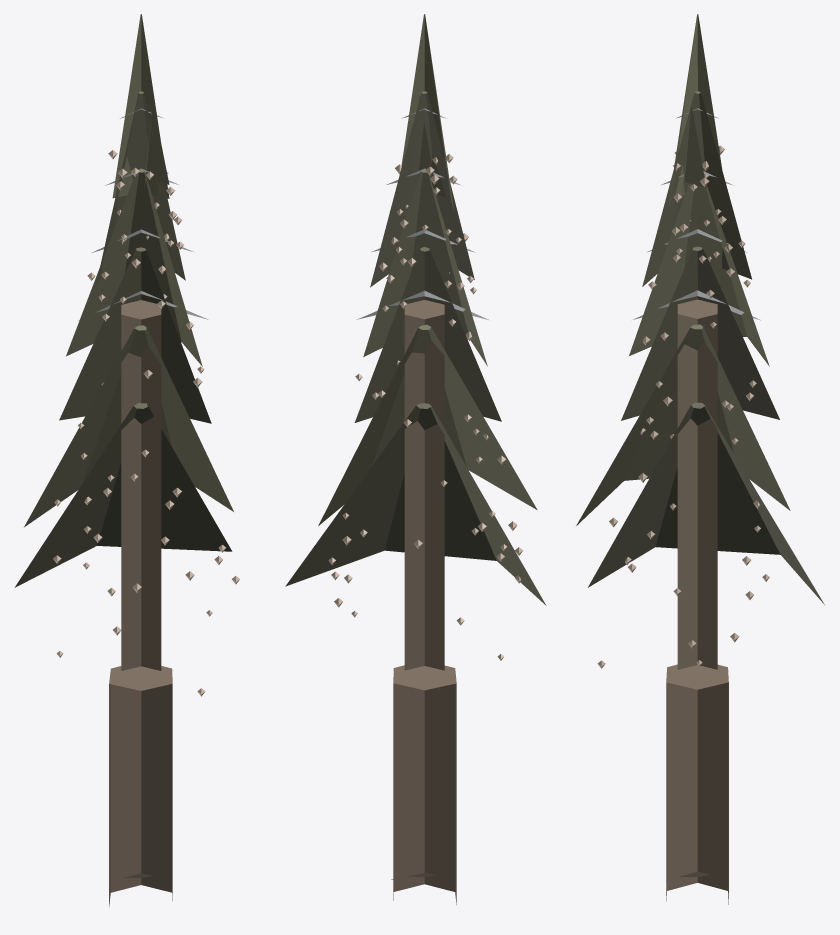
The model's file is shu.luoye@flowering__winter.glb.
The picture shows the model from 3 angles, left to right: view 1: azimuth 30°, elevation 25°; view 2: azimuth 150°, elevation 25°; view 3: azimuth 270°, elevation 25°; orthographic projection.
Visible parts, largest first — view 1: shu.luoye@flowering__winter; view 2: shu.luoye@flowering__winter; view 3: shu.luoye@flowering__winter.
Boxes of the visible parts, <box> form: shu.luoye@flowering__winter: <box>14,14,239,906</box>; shu.luoye@flowering__winter: <box>285,14,546,904</box>; shu.luoye@flowering__winter: <box>576,14,824,904</box>.
Size of the model in its own units: 4.86 by 18.97 by 4.86.
